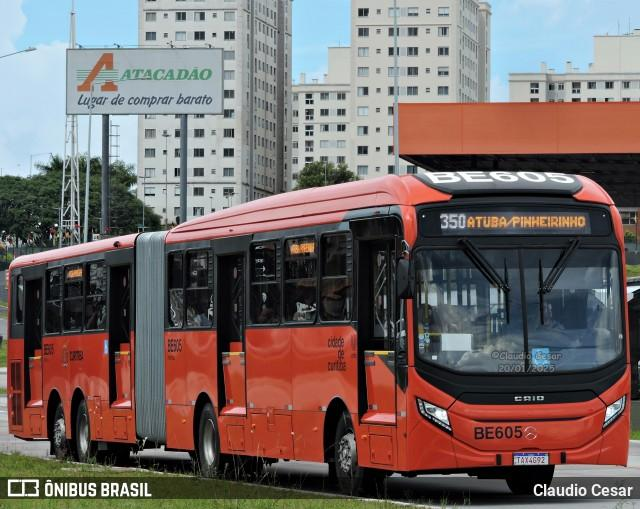ATUBA PINHEIRINHO: (464, 213, 590, 232)
